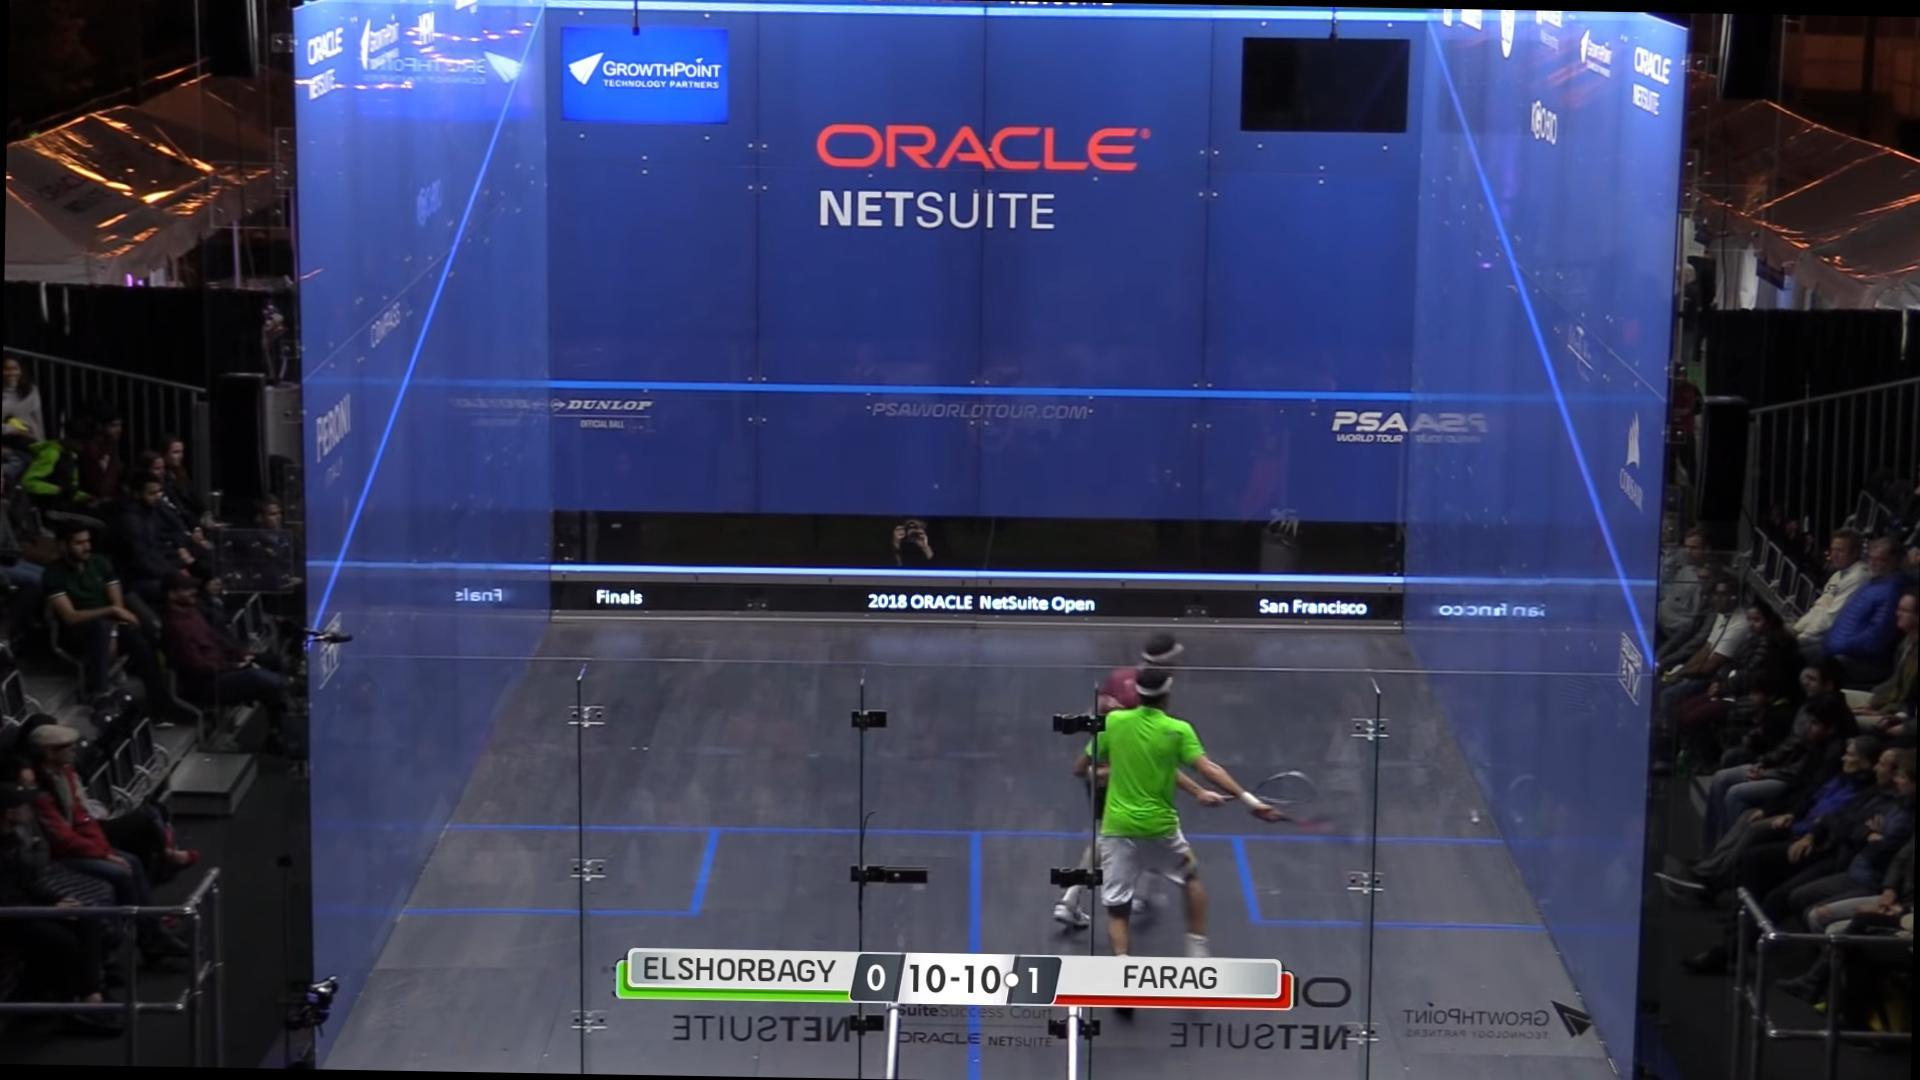Squash-Ball: (1466, 806, 1485, 832)
